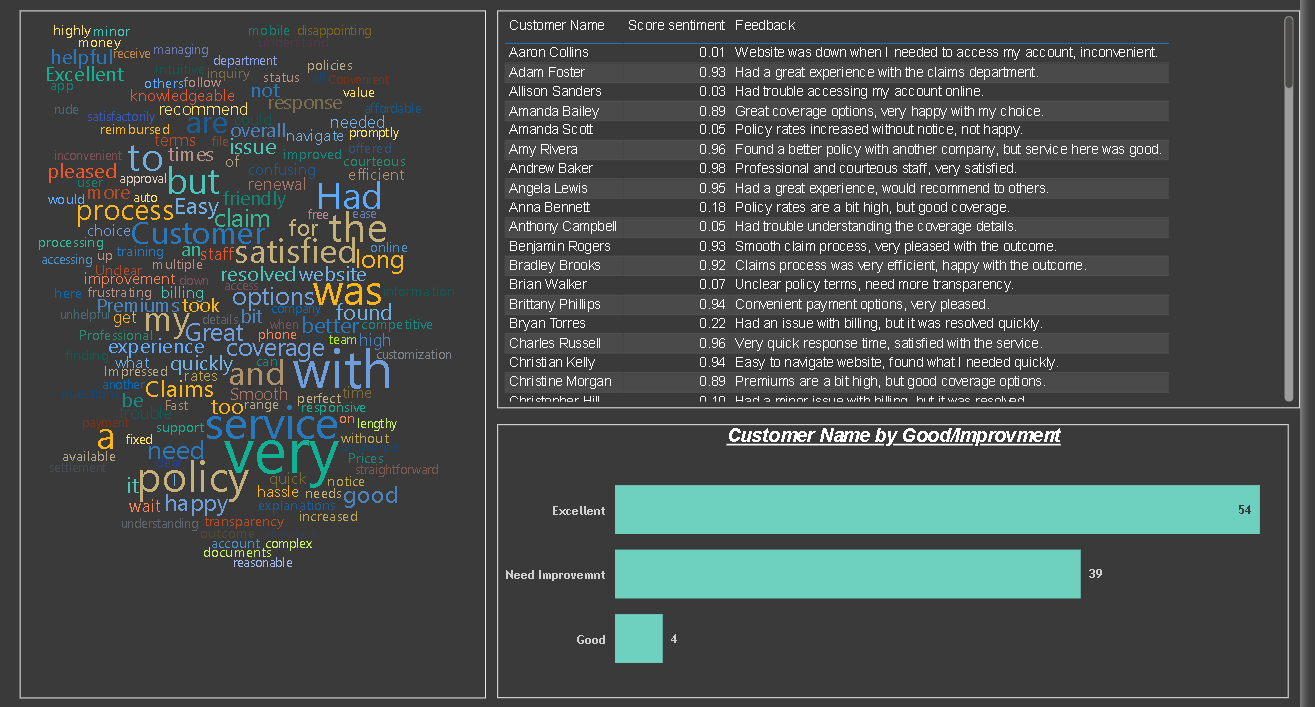

Layout of this report page (visuals, bound fields, positions):
{"tool":"powerbi","page":{"name":"Page 3","canvas":[1280,720],"ordinal":2},"visuals":[{"type":"WordCloud1447959067750","fields":{"Category":["Sheet1.Feedback"],"Values":["CountNonNull(Sheet1.Feedback)"]},"box":[23.3,22.1,457.7,674.9],"z":0},{"type":"barChart","title":"Customer Name by Good/Improvment","fields":{"Category":["Sheet1.Good/Improvment"],"Y":["CountNonNull(Sheet1.Customer Name)"]},"box":[492,428.2,776.7,268.7],"z":1000},{"type":"tableEx","fields":{"Values":["Sheet1.Customer Name","Sheet1.Score sentiment","Sheet1.Feedback"]},"box":[492,22.1,787.7,390.2],"z":2000}]}

Visuals, with their boxes on the page's 1280x720 design canvas (x1, y1, x2, y2). These are canvas units, not pixel positions in the 1315x707 screenshot, which may show the page scaled, cropped or inside an application window:
WordCloud1447959067750 - Sheet1.Feedback x CountNonNull(Sheet1.Feedback): locate(23, 22, 481, 697)
"Customer Name by Good/Improvment" barChart: locate(492, 428, 1269, 697)
tableEx - Sheet1.Customer Name x Sheet1.Score sentiment: locate(492, 22, 1280, 412)
